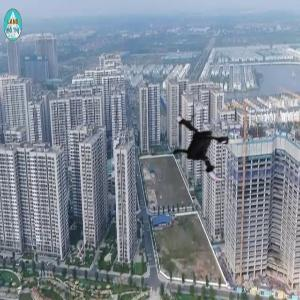drone: (158, 100, 248, 190)
